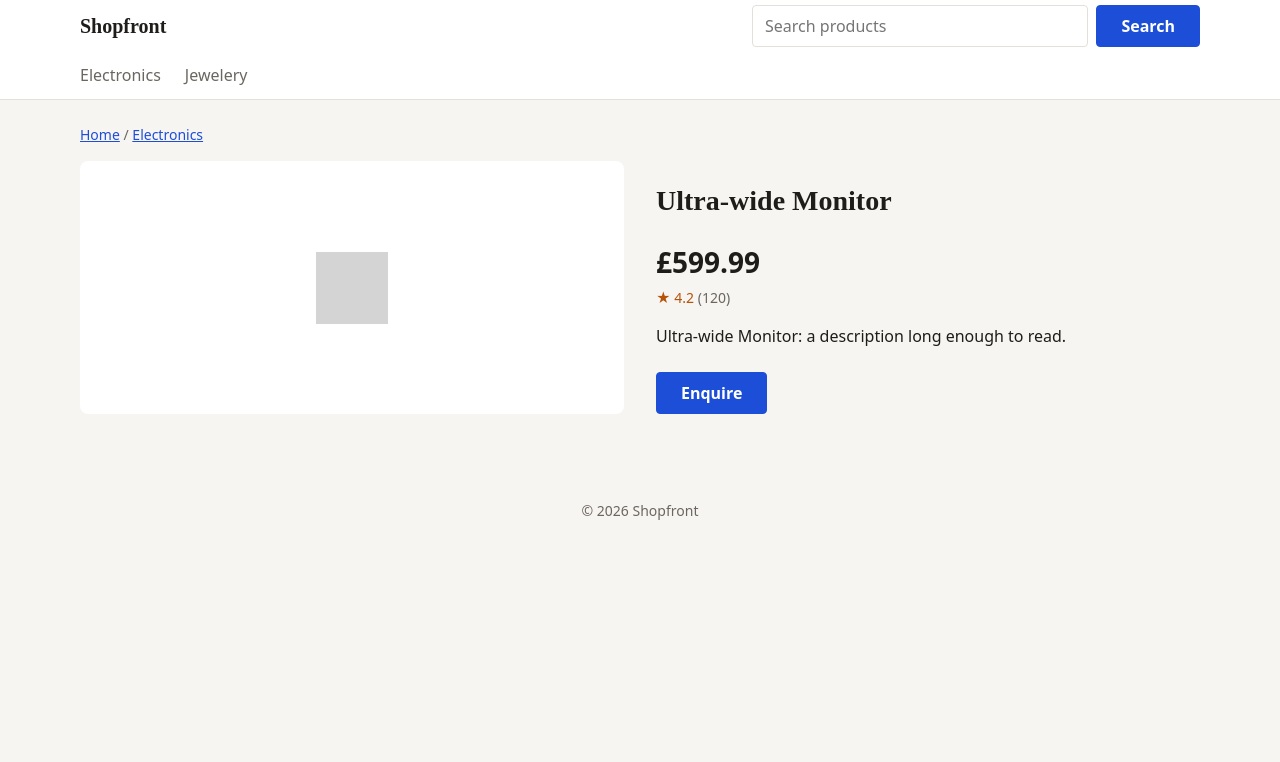
Test: Enquiry › does not thank the customer when the email could not be sent, and keeps what they typed
Click the button "Enquire": (712, 393) [656,372,767,414]
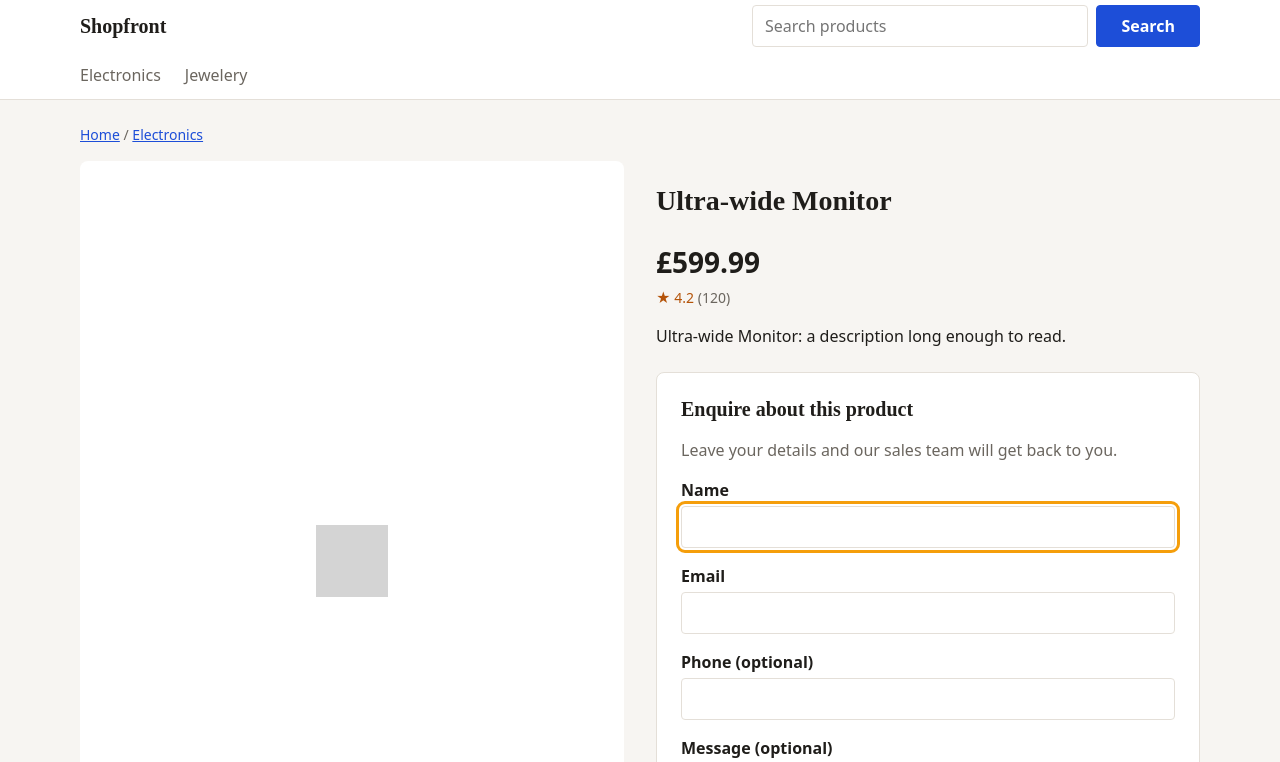
In the field labelled "Name": (928, 527) [681,506,1175,548], type "Ada Lovelace"
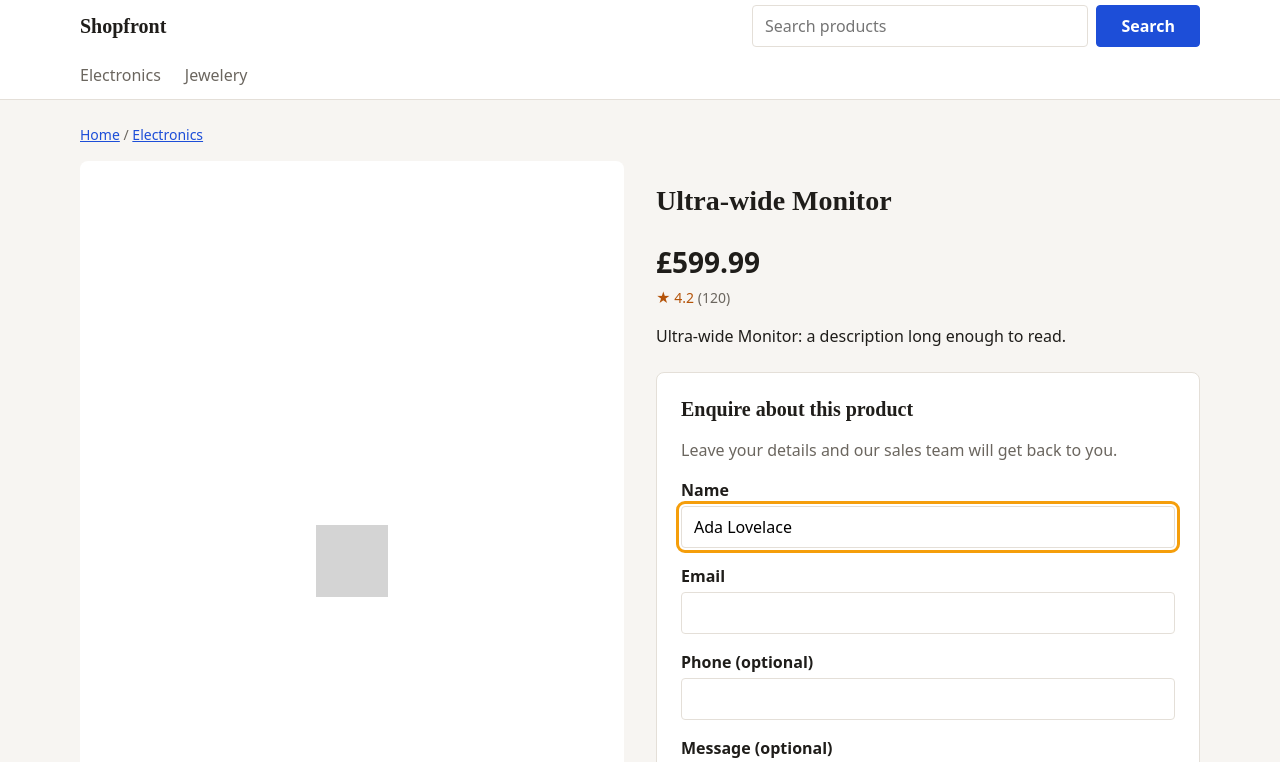
In the field labelled "Email": (928, 613) [681,592,1175,634], type "ada@example.com"
(page scrolled)
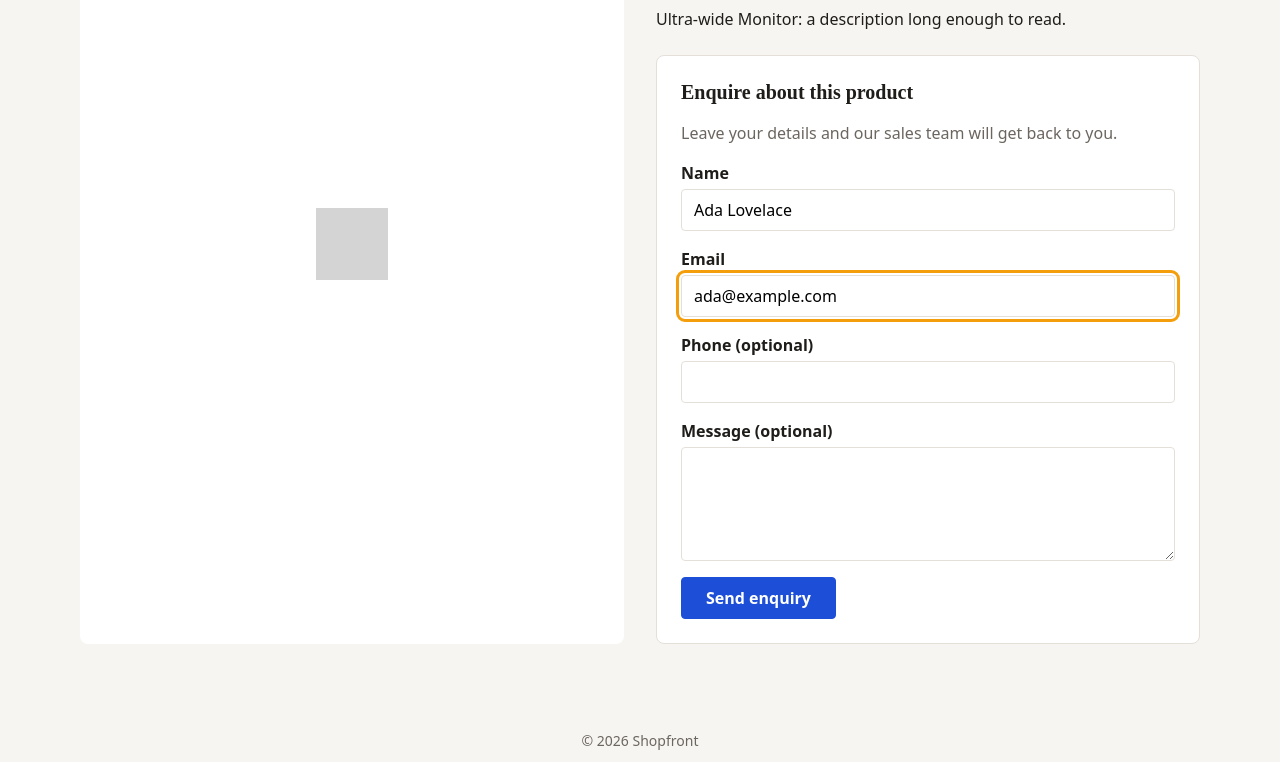
In the text box labelled "Message (optional)": (928, 504) [681,447,1175,561], type "Is it curved?"
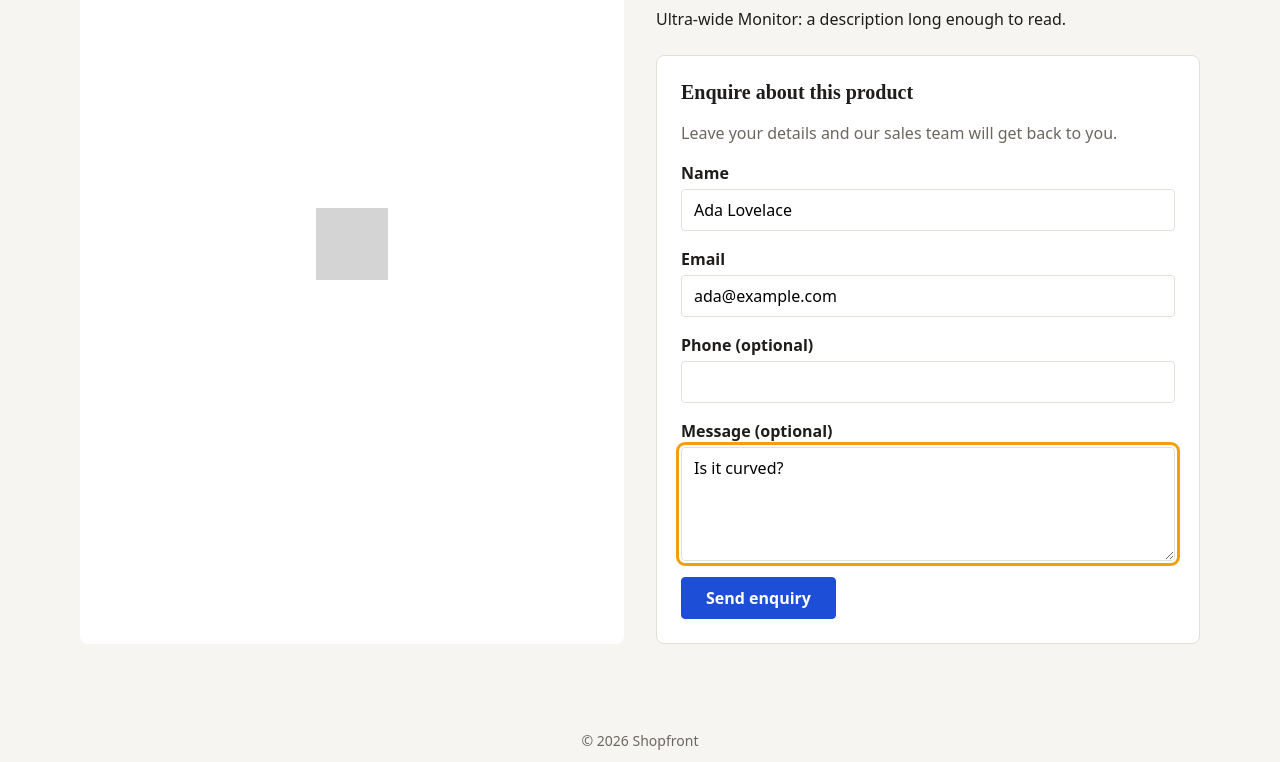
Click the button "Send enquiry": (758, 598) [681,577,836,619]
(page scrolled)
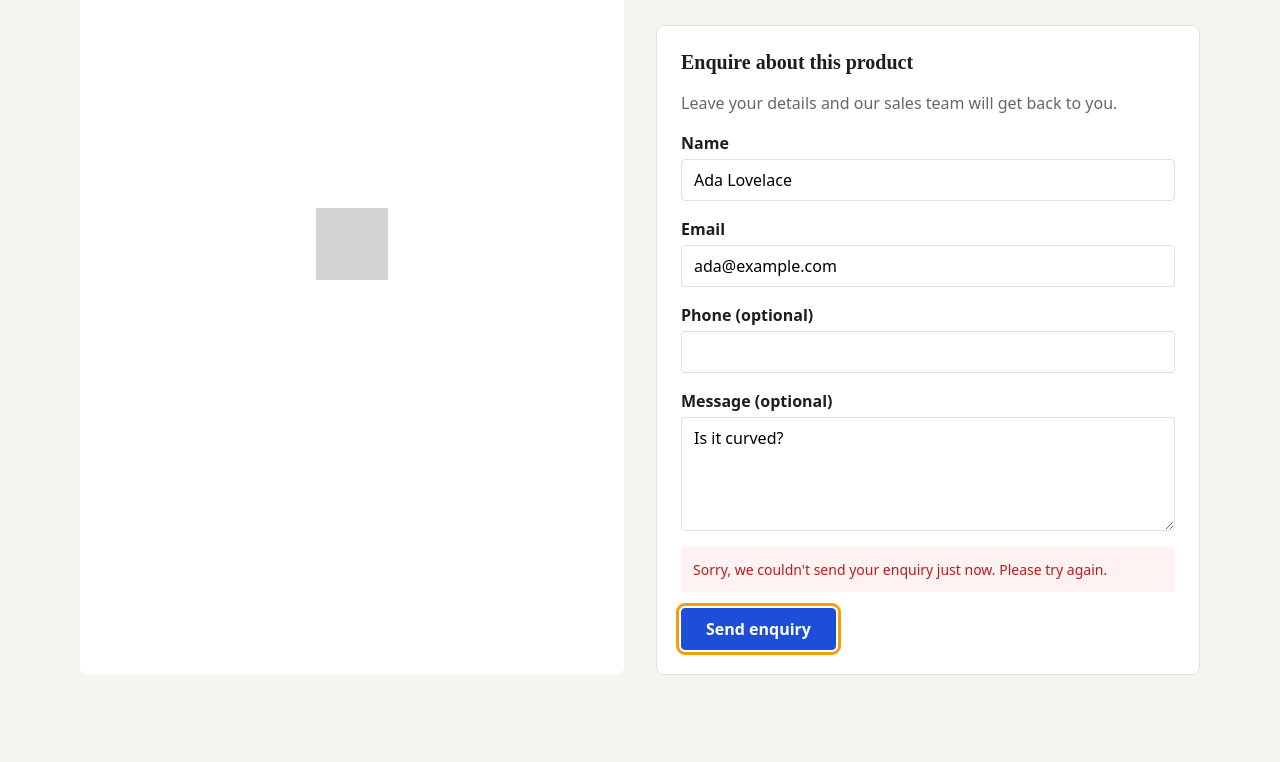
Expected: the message reads "Sorry, we couldn't send your enquiry just now. Please try again.", [693,560,1107,579]
